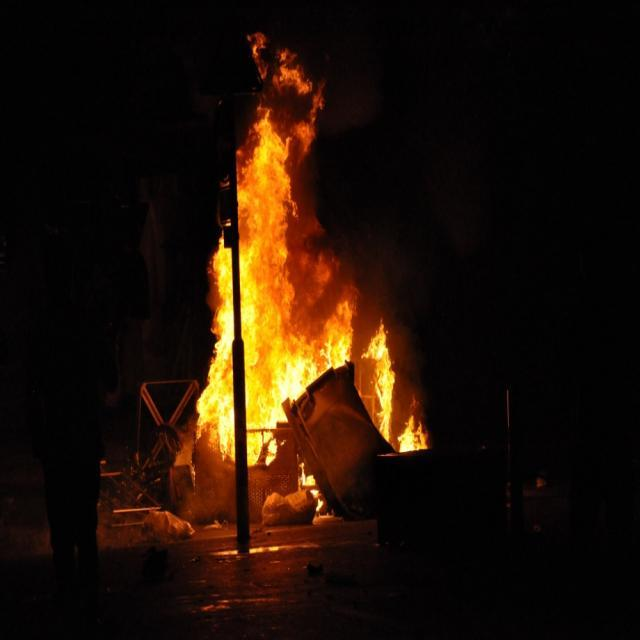Fire: (243, 158, 291, 428), (300, 289, 394, 392), (202, 249, 230, 450)
